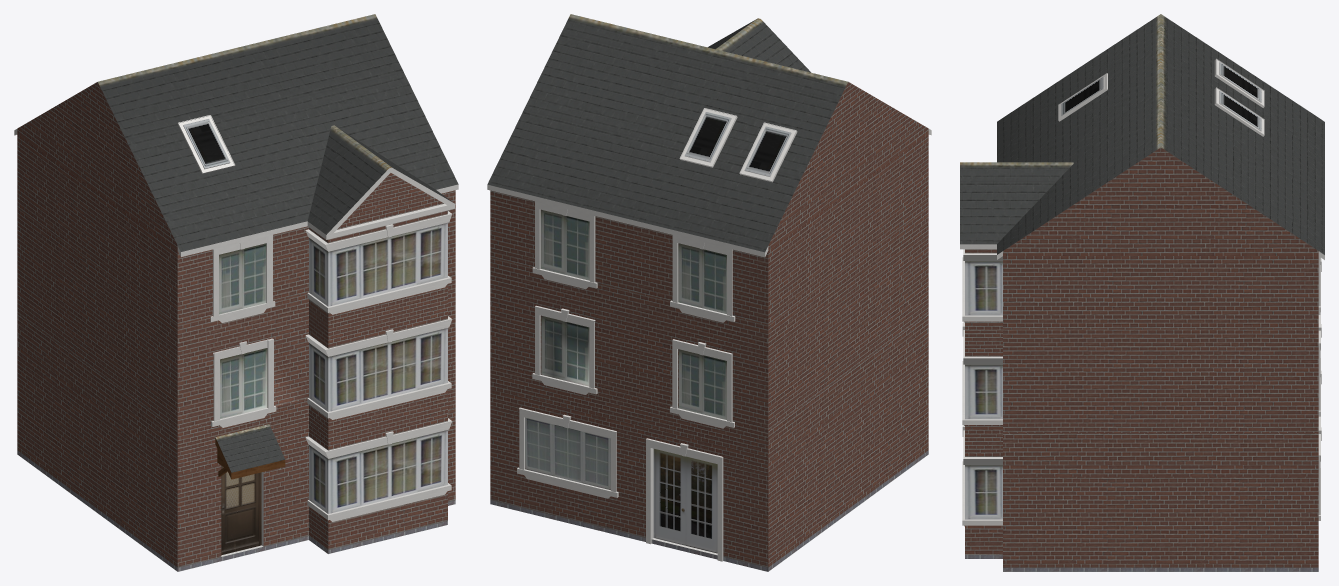
The model's file is modernterrace3story4m.FBX.
3 renders of one model, left to right at view 1: azimuth 30°, elevation 25°; view 2: azimuth 150°, elevation 25°; view 3: azimuth 270°, elevation 25°, orthographic.
Visible parts, largest first — view 1: Box001; view 2: Box001; view 3: Box001.
Part boxes in pixels (x1,y1,x2,y2): Box001: (14,14,458,571); Box001: (487,14,931,571); Box001: (960,14,1324,571).
Bounding box in the file's own units: 800 × 1188 × 925.
